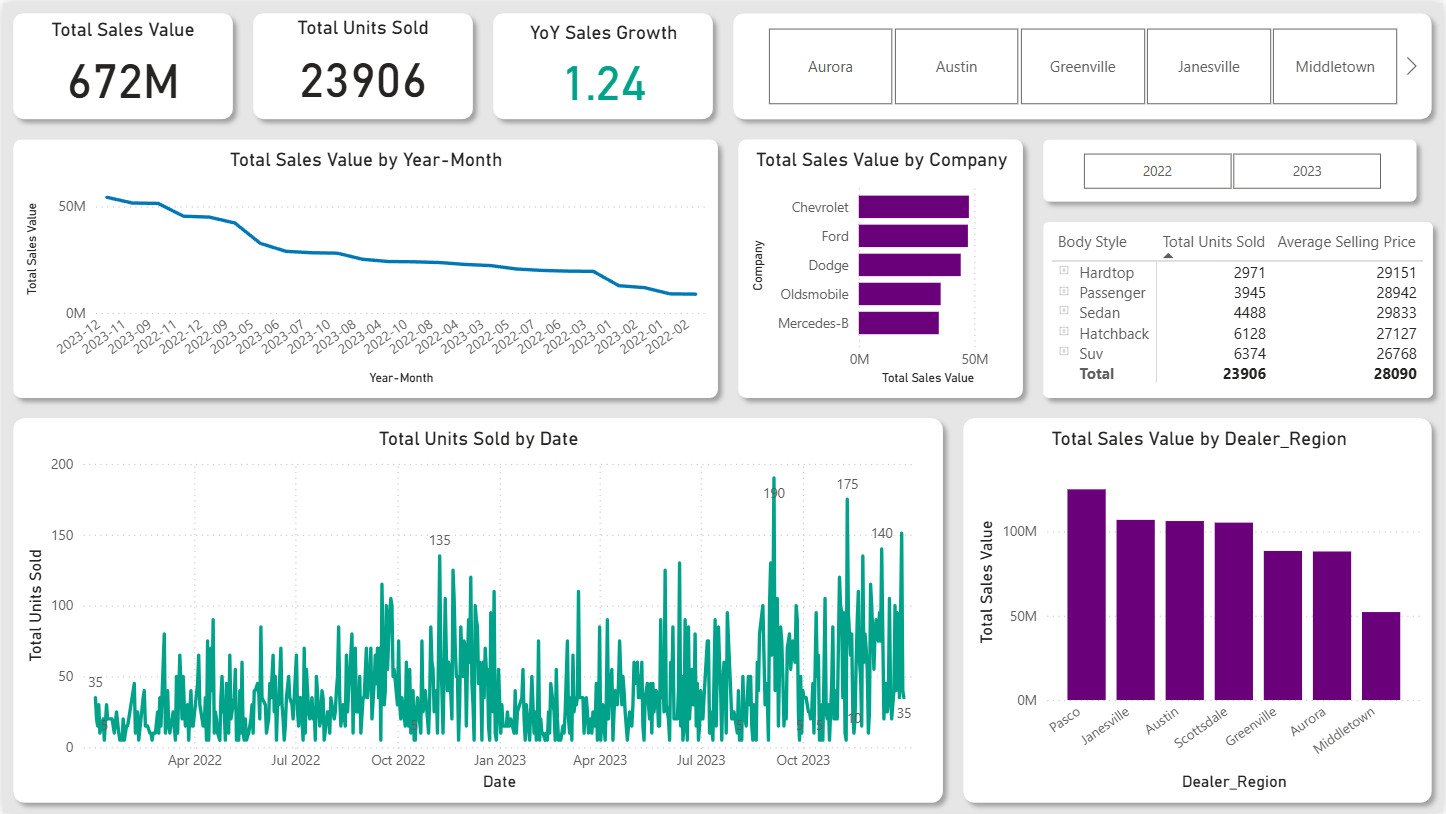

Layout of this report page (visuals, bound fields, positions):
{"tool":"powerbi","page":{"name":"Page 1","canvas":[1280,720],"ordinal":0},"visuals":[{"type":"shape","box":[844.4,360,434.4,360],"z":0},{"type":"shape","box":[0,360,844.4,360],"z":1000},{"type":"shape","box":[915.6,185.6,364.4,174.4],"z":2000},{"type":"shape","box":[644.4,112.2,271.1,247.8],"z":3000},{"type":"shape","box":[0,112.2,644.4,247.8],"z":4000},{"type":"shape","box":[640,0,638.9,112.2],"z":5000},{"type":"shape","box":[915.6,112.2,350,73.3],"z":6000},{"type":"shape","box":[426.7,0,213.3,112.2],"z":7000},{"type":"shape","box":[213.3,0,213.3,112.2],"z":8000},{"type":"shape","box":[0,0,213.3,112.2],"z":9000},{"type":"card","title":"Total Sales Value","fields":{"Values":["Key Measures.Total Sales Value"]},"box":[32.2,13.3,148.9,85.6],"z":10000},{"type":"card","title":"Total Units Sold","fields":{"Values":["Key Measures.Total Units Sold"]},"box":[253.3,11.1,133.3,87.8],"z":11000},{"type":"card","title":"YoY Sales Growth","fields":{"Values":["Key Measures.YoY Sales Growth"]},"box":[452.2,15.6,163.3,83.3],"z":12000},{"type":"slicer","fields":{"Values":["Calendar.Year"]},"box":[934.4,126.7,314.4,45],"z":13000},{"type":"slicer","fields":{"Values":["Dim Dealer.Dealer_Region"]},"box":[654.4,15.6,608.9,81.1],"z":14000},{"type":"lineChart","fields":{"Category":["Calendar.Year-Month"],"Y":["Key Measures.Total Sales Value"]},"box":[15.6,128.9,614.4,215.6],"z":15000},{"type":"lineChart","fields":{"Y":["Key Measures.Total Units Sold"],"Category":["Calendar.Date"]},"box":[15.6,376.7,814.4,328.9],"z":16000},{"type":"barChart","fields":{"Category":["Dim Product.Company"],"Y":["Key Measures.Total Sales Value"]},"box":[661.1,128.9,240,215.6],"z":17000},{"type":"pivotTable","fields":{"Rows":["Dim Product.Body Style","Dim Product.Company","Dim Product.Engine","Dim Product.Transmission","Dim Product.Model"],"Values":["Key Measures.Total Units Sold","Key Measures.Average Selling Price"]},"box":[927.8,197.8,341.1,150],"z":18000},{"type":"columnChart","fields":{"Category":["Dim Dealer.Dealer_Region"],"Y":["Key Measures.Total Sales Value"]},"box":[861.1,376.7,404.4,328.9],"z":19000}]}

Visuals, with their boxes in screenshot pixels (x1, y1, x2, y2), scaled from the page's 1280x720 canvas onto the 1446x814 screenshot:
shape: [954, 407, 1445, 813]
shape: [0, 407, 954, 813]
shape: [1034, 210, 1445, 407]
shape: [728, 127, 1034, 407]
shape: [0, 127, 728, 407]
shape: [723, 0, 1445, 127]
shape: [1034, 127, 1430, 210]
shape: [482, 0, 723, 127]
shape: [241, 0, 482, 127]
shape: [0, 0, 241, 127]
"Total Sales Value" card: [36, 15, 205, 112]
"Total Units Sold" card: [286, 13, 437, 112]
"YoY Sales Growth" card: [511, 18, 695, 112]
slicer - Calendar.Year: [1056, 143, 1411, 194]
slicer - Dim Dealer.Dealer_Region: [739, 18, 1427, 109]
lineChart - Calendar.Year-Month x Key Measures.Total Sales Value: [18, 146, 712, 389]
lineChart - Key Measures.Total Units Sold x Calendar.Date: [18, 426, 938, 798]
barChart - Dim Product.Company x Key Measures.Total Sales Value: [747, 146, 1018, 389]
pivotTable - Dim Product.Body Style x Dim Product.Company: [1048, 224, 1433, 393]
columnChart - Dim Dealer.Dealer_Region x Key Measures.Total Sales Value: [973, 426, 1430, 798]
